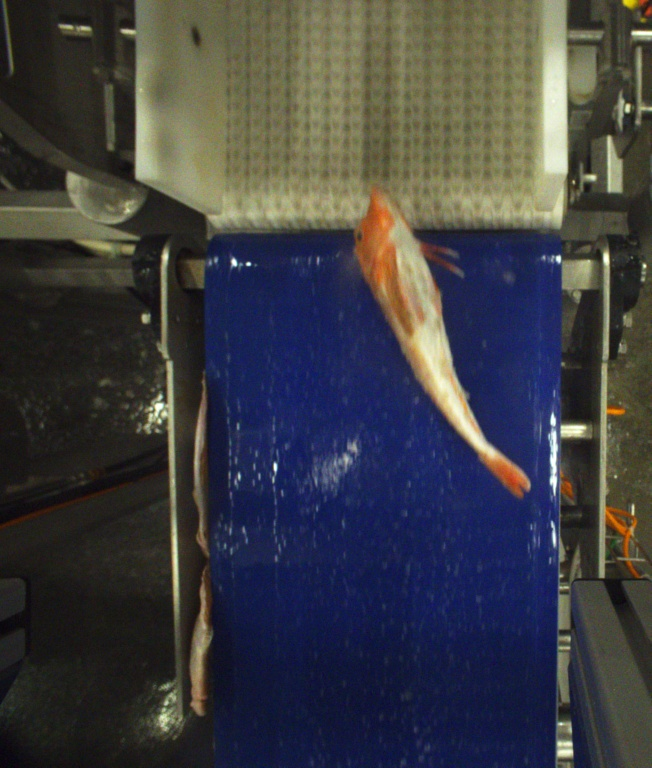GUU: (353, 185, 531, 496)
